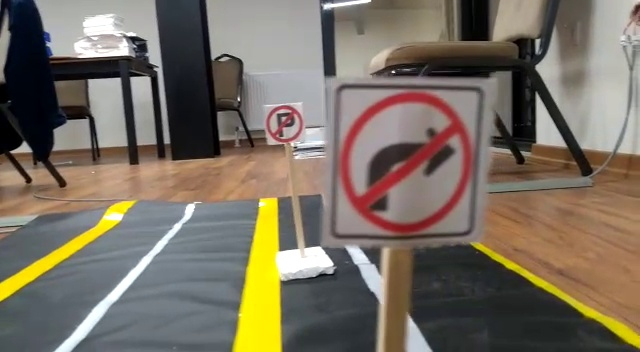park_yapilmaz: (263, 103, 304, 142)
saga_donulmez: (326, 84, 478, 238)
